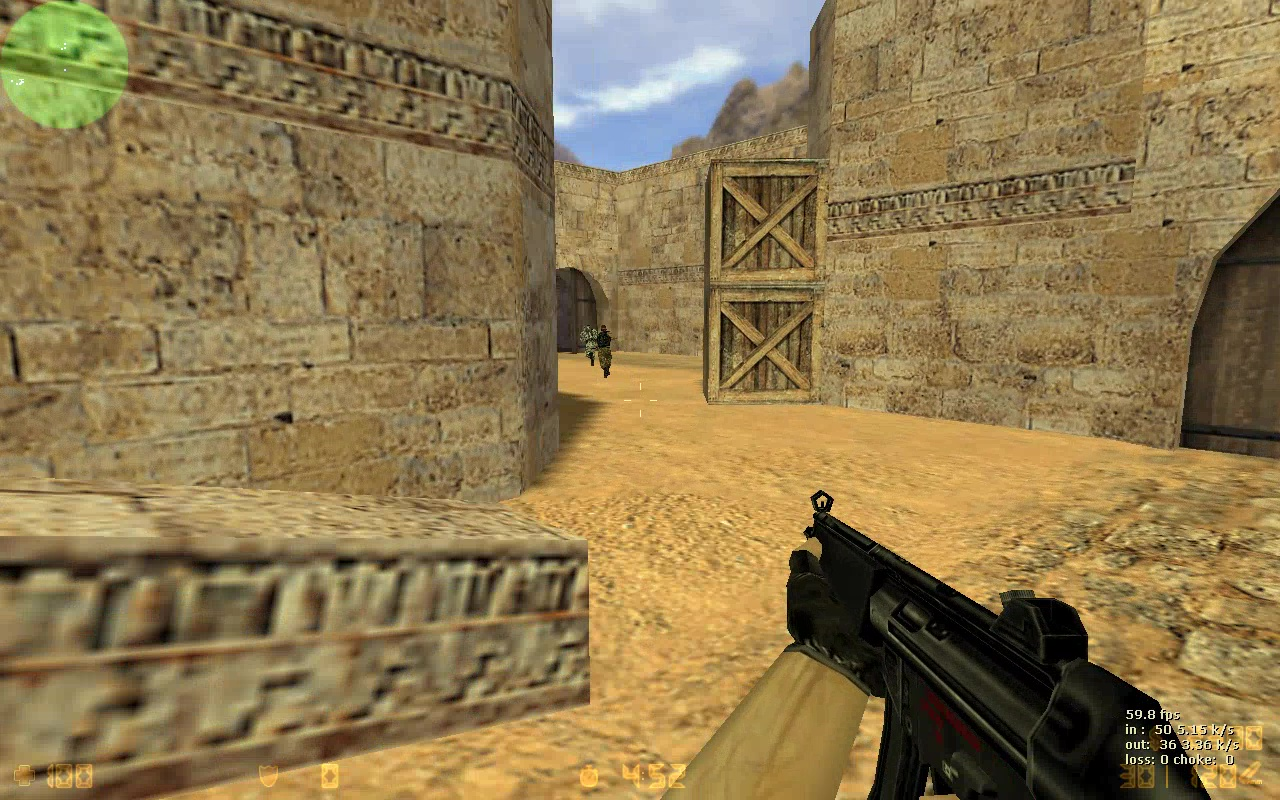terr1: (597, 322, 618, 379)
terr2: (583, 326, 602, 365)
